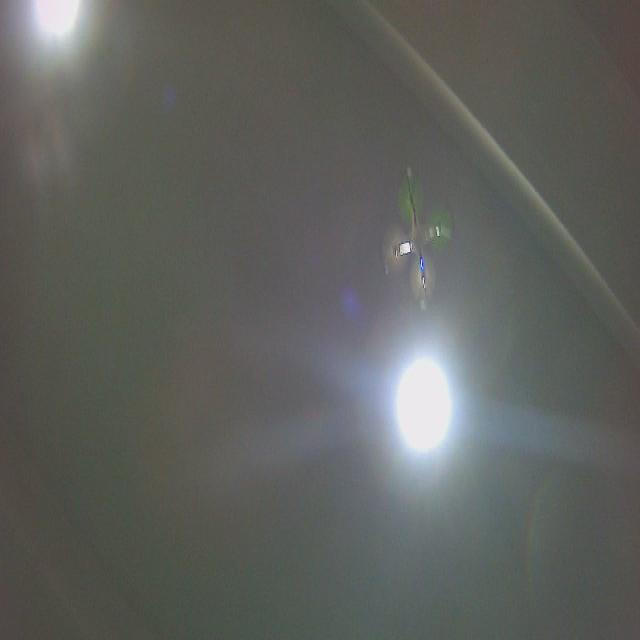drone: (378, 161, 456, 316)
